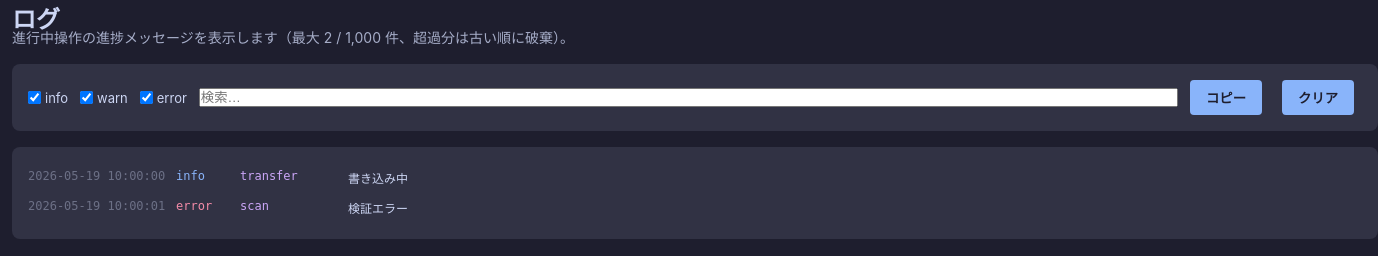
LogsPage › 検索で絞り込む
Type "検証" into the search field named "ログ検索".
click(688, 98); type("検証")  # box x1=199 y1=88 x2=1178 y2=107
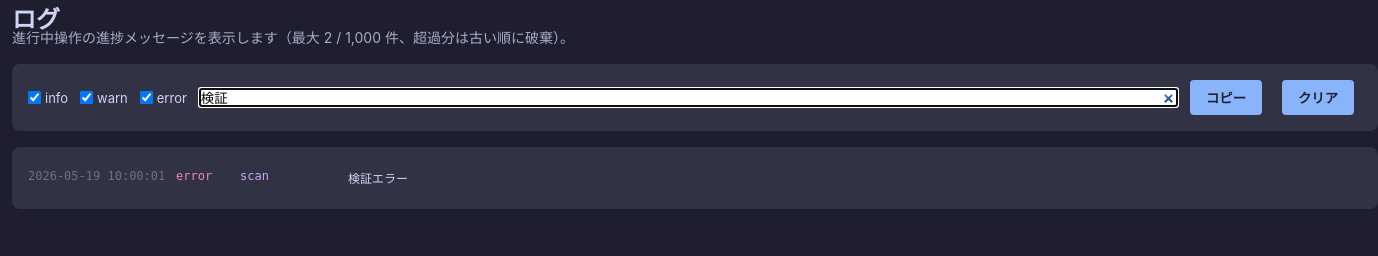
Check: the text "検証エラー" is shown, box x1=348 y1=172 x2=408 y2=186
Check: the text "書き込み中" is gone
